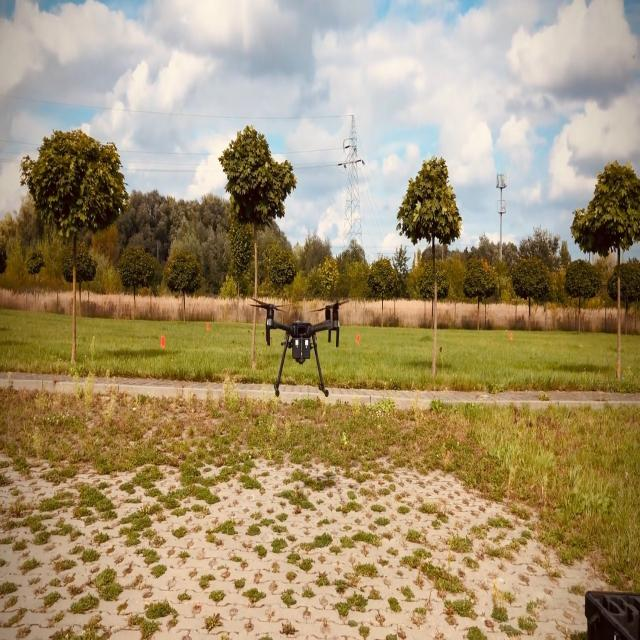drone: (249, 297, 349, 397)
